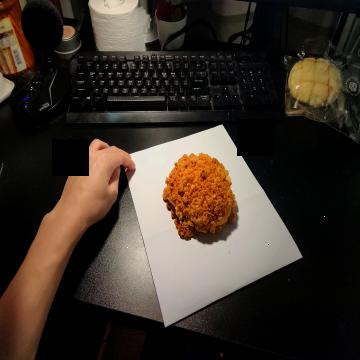soboru_bread: (161, 151, 236, 240)
